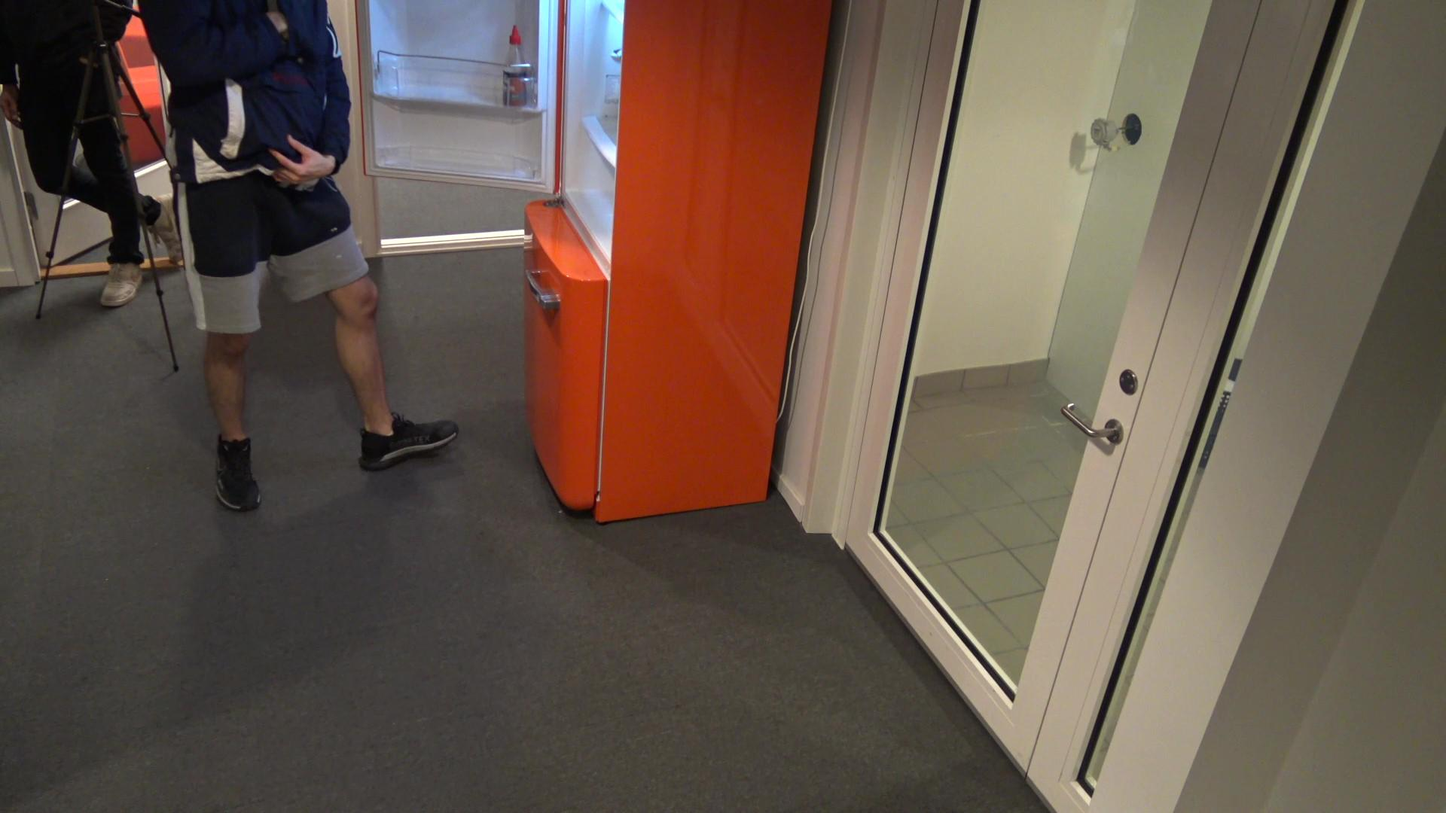shoplifting: (137, 0, 465, 512)
